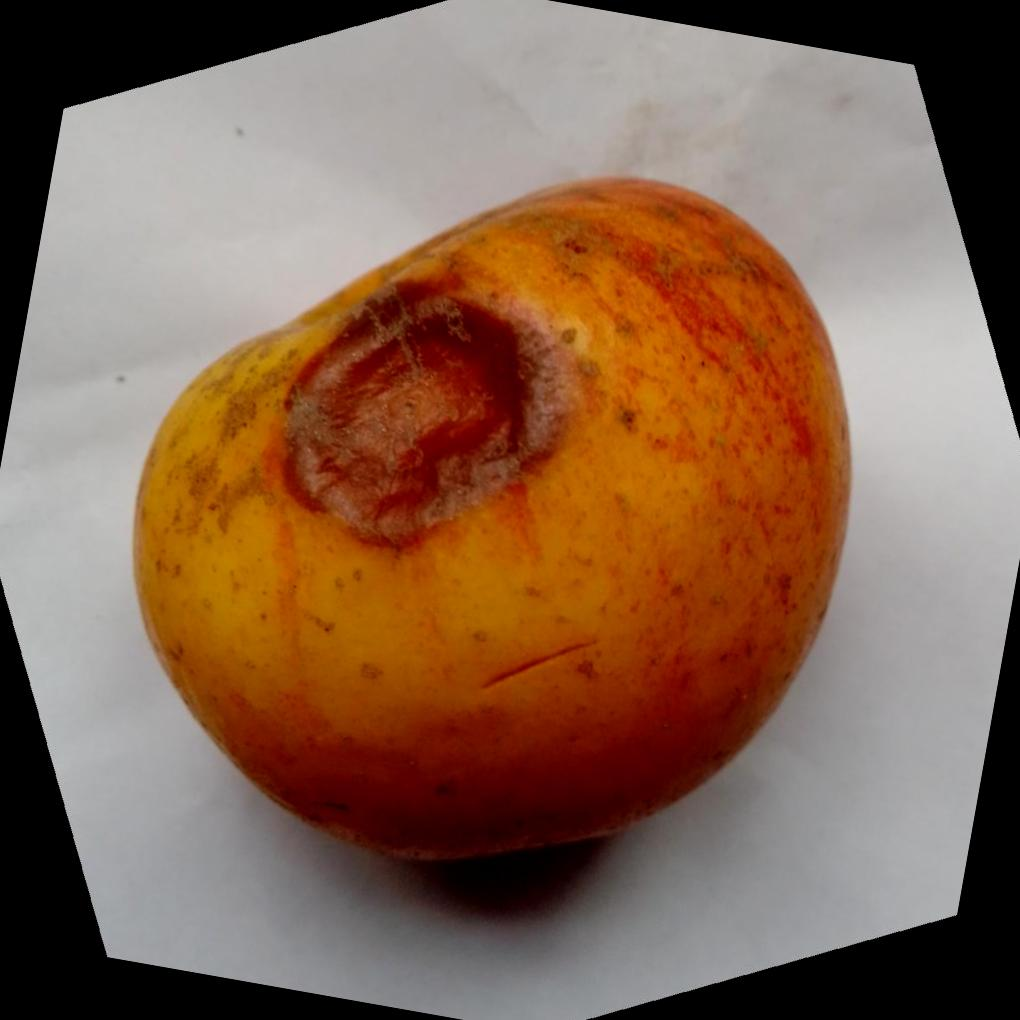FreshOrange: (133, 174, 856, 864)
